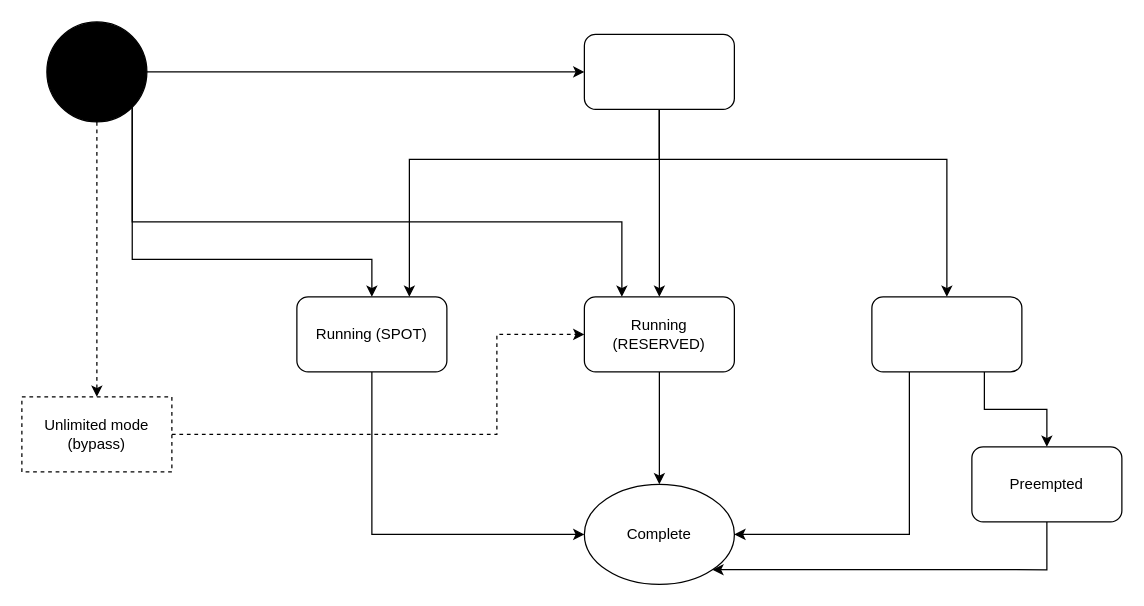
This 1144x606 diagram has some shape labels left out. Here are the shapes that lost their labels. From the top down, the centre of each, then its label:
At point (658, 71): "Queued".
At point (946, 334): "Running (ON - DEMAND)".
